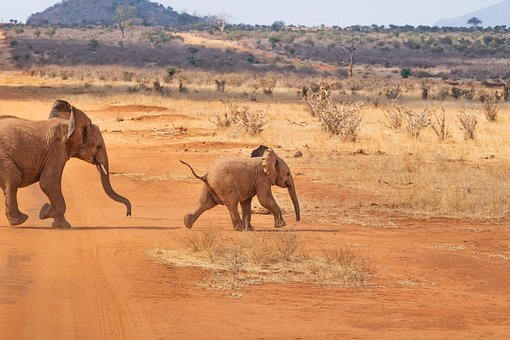field: (27, 22, 510, 329)
